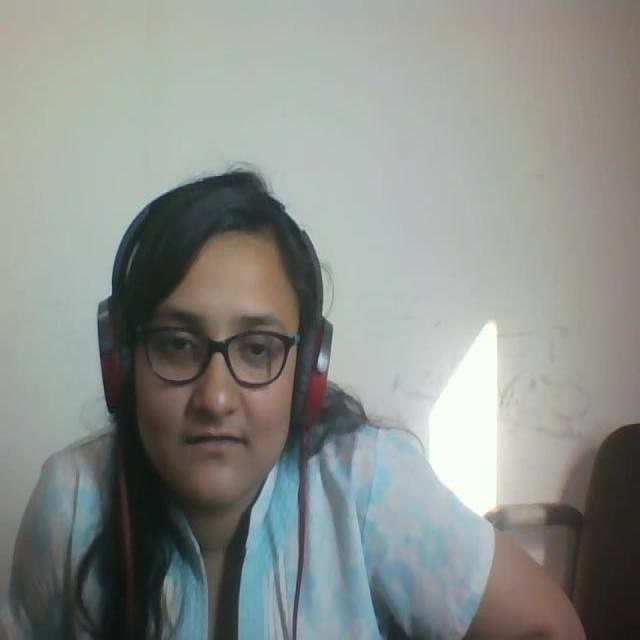Engaged: (76, 167, 379, 523)
